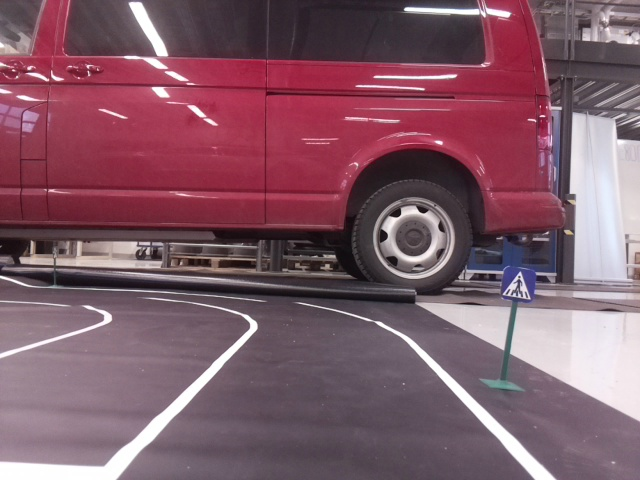Crosswalk: (503, 266, 532, 301)
